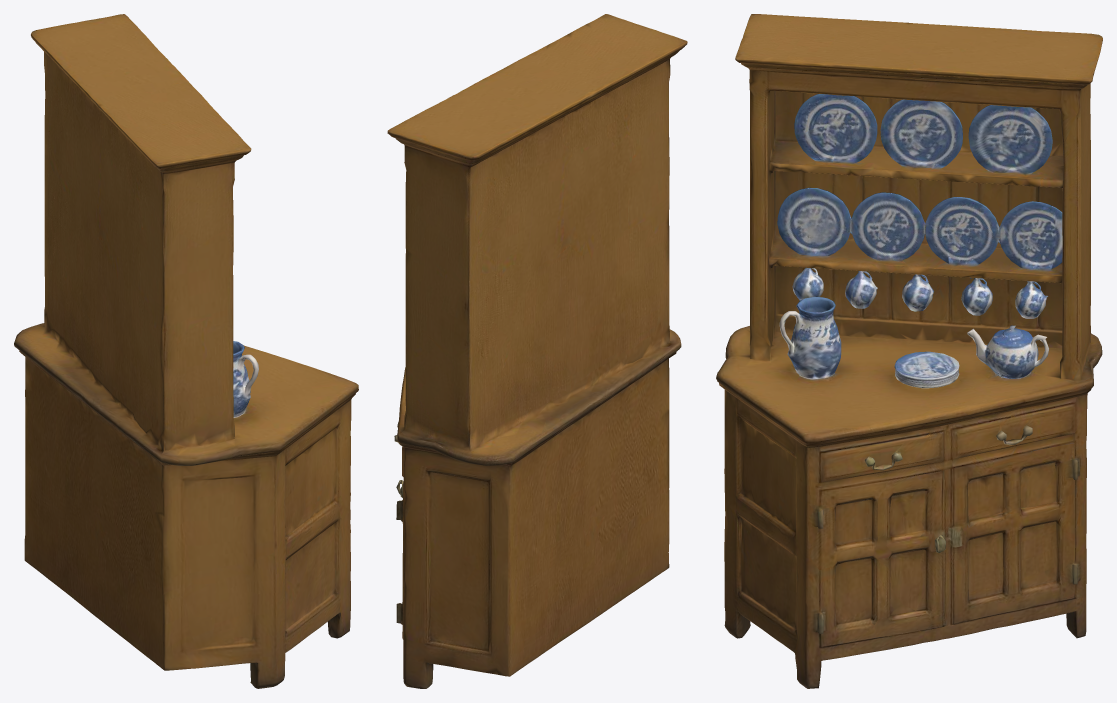
File: k_hutch.glb
The picture shows the model from 3 angles, left to right: view 1: azimuth 30°, elevation 25°; view 2: azimuth 150°, elevation 25°; view 3: azimuth 270°, elevation 25°; orthographic projection. The views are drawn at different scales.
Visible parts, largest first — view 1: tripo_node_f40d41f6-83bd-4220-b7d9-807ab5d14389; view 2: tripo_node_f40d41f6-83bd-4220-b7d9-807ab5d14389; view 3: tripo_node_f40d41f6-83bd-4220-b7d9-807ab5d14389.
Boxes of the visible parts, box(x1,y1,x2,y2) form: tripo_node_f40d41f6-83bd-4220-b7d9-807ab5d14389: box(14, 14, 358, 688); tripo_node_f40d41f6-83bd-4220-b7d9-807ab5d14389: box(387, 14, 687, 688); tripo_node_f40d41f6-83bd-4220-b7d9-807ab5d14389: box(716, 14, 1102, 688).
Bounding box in the file's own units: 0.4428 × 1 × 0.6214.
1 material, 1 textured.
